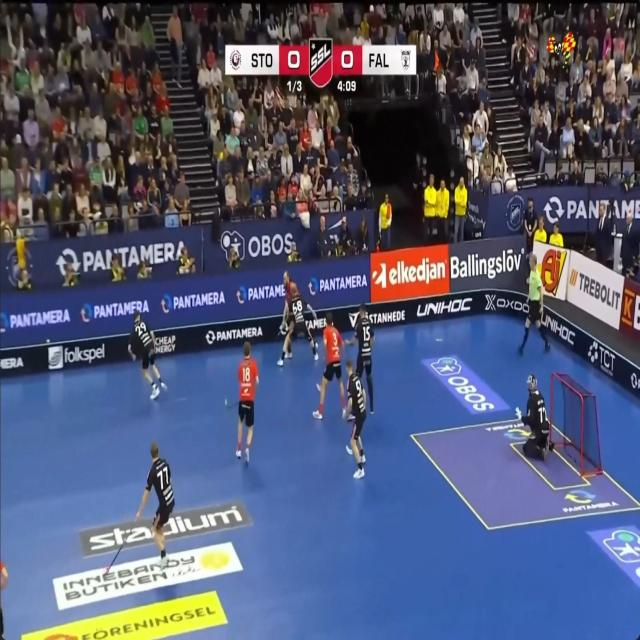player: (135, 442, 174, 568), (313, 312, 345, 418), (277, 282, 317, 366), (128, 312, 166, 399), (516, 374, 554, 460), (518, 253, 550, 354), (345, 304, 374, 414), (236, 341, 259, 463), (343, 360, 366, 477)
stick: (105, 541, 125, 574), (225, 399, 239, 407), (277, 325, 286, 336)
